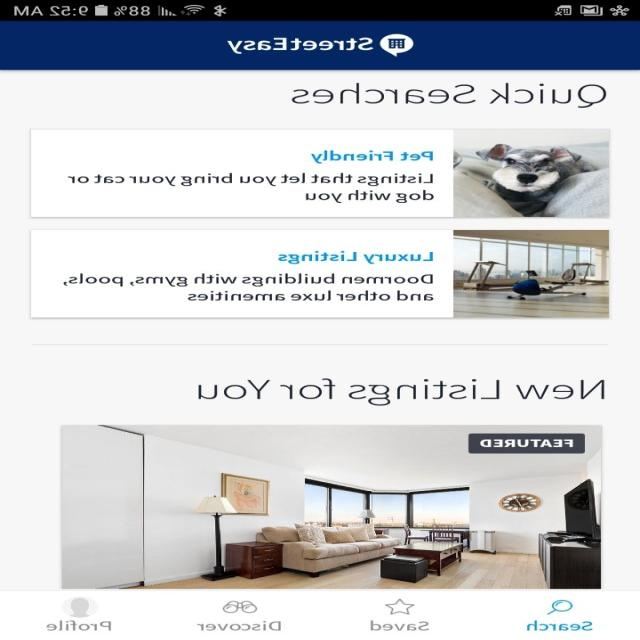Icon: (62, 596, 100, 618), (385, 598, 416, 615), (546, 600, 574, 614)
Image: (61, 425, 602, 588), (454, 128, 610, 218), (453, 229, 610, 318), (380, 34, 414, 57), (224, 600, 258, 613)
Text: (198, 378, 606, 405), (68, 173, 434, 203), (64, 273, 434, 301), (292, 82, 608, 109), (228, 37, 374, 54), (278, 251, 435, 264), (311, 150, 435, 164), (197, 620, 282, 631), (526, 620, 593, 631), (47, 620, 113, 631), (370, 620, 430, 630)
TextButton: (468, 434, 585, 454)
